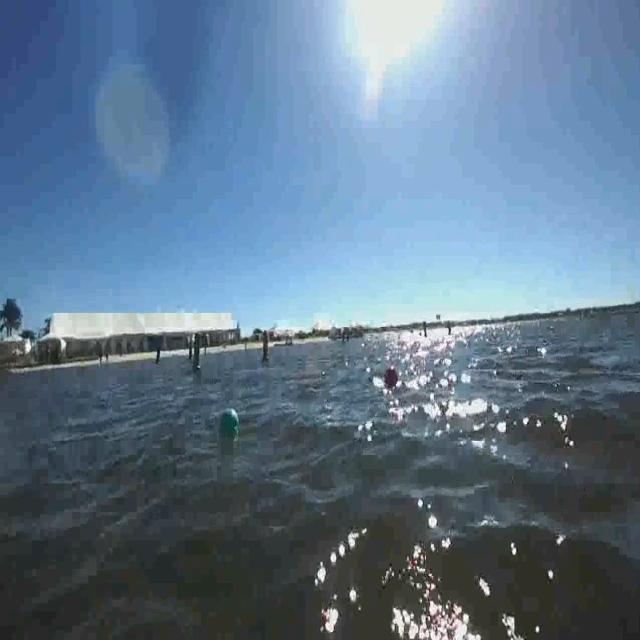green-buoy: (219, 407, 240, 440)
green-column-buoy: (193, 335, 204, 372), (154, 348, 161, 365)
red-buoy: (383, 362, 400, 388)
